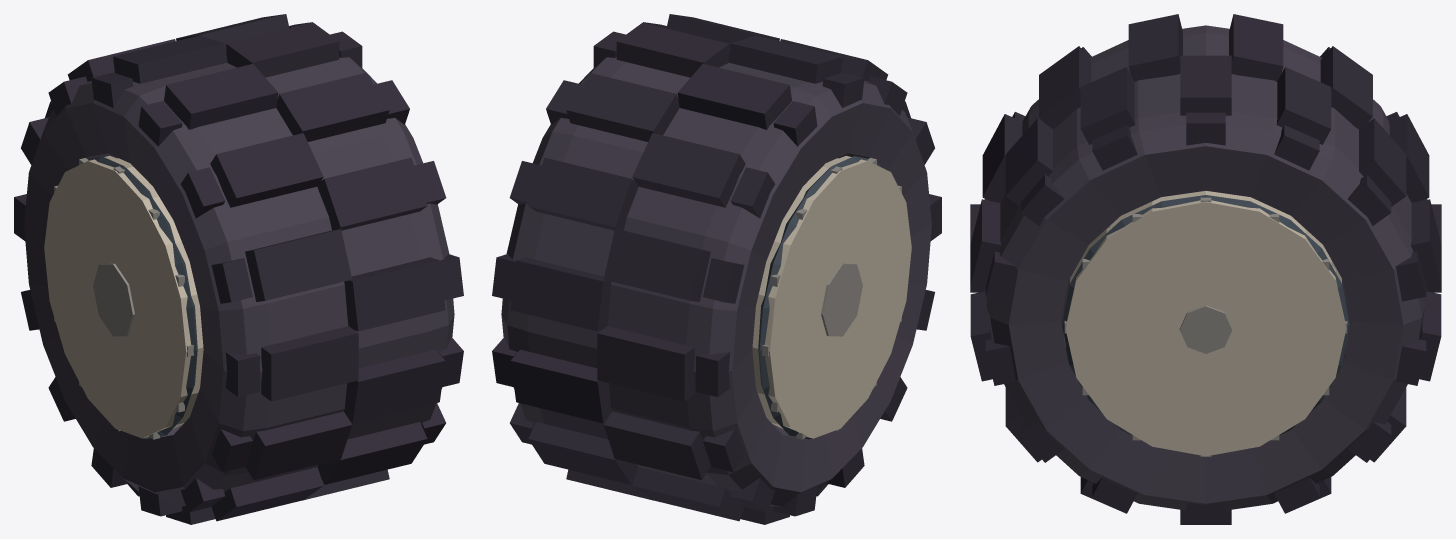
Rendered from marisol_wheels.glb.
The picture shows the model from 3 angles, left to right: view 1: azimuth 30°, elevation 25°; view 2: azimuth 150°, elevation 25°; view 3: azimuth 270°, elevation 25°; orthographic projection.
Parts seen in each view (by area): view 1: marisol_wheel, marisol_rim; view 2: marisol_wheel, marisol_rim; view 3: marisol_wheel, marisol_rim.
Boxes of the visible parts, x1=… form: marisol_wheel: x1=14, y1=14, x2=463, y2=524; marisol_rim: x1=44, y1=155, x2=203, y2=439; marisol_wheel: x1=492, y1=14, x2=941, y2=524; marisol_rim: x1=752, y1=155, x2=911, y2=439; marisol_wheel: x1=970, y1=14, x2=1441, y2=524; marisol_rim: x1=1062, y1=191, x2=1349, y2=456.
Bounding box in the file's own units: 0.7888 × 1.29 × 1.29.
